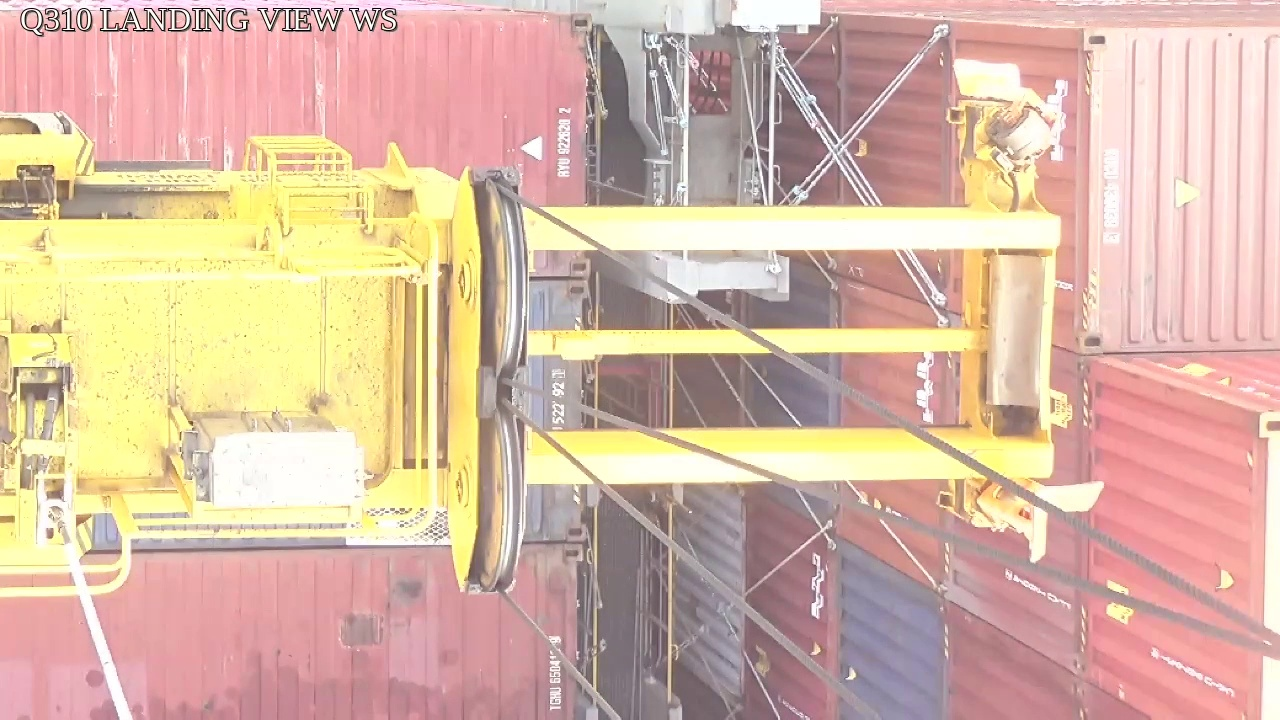right: (441, 166, 530, 598)
